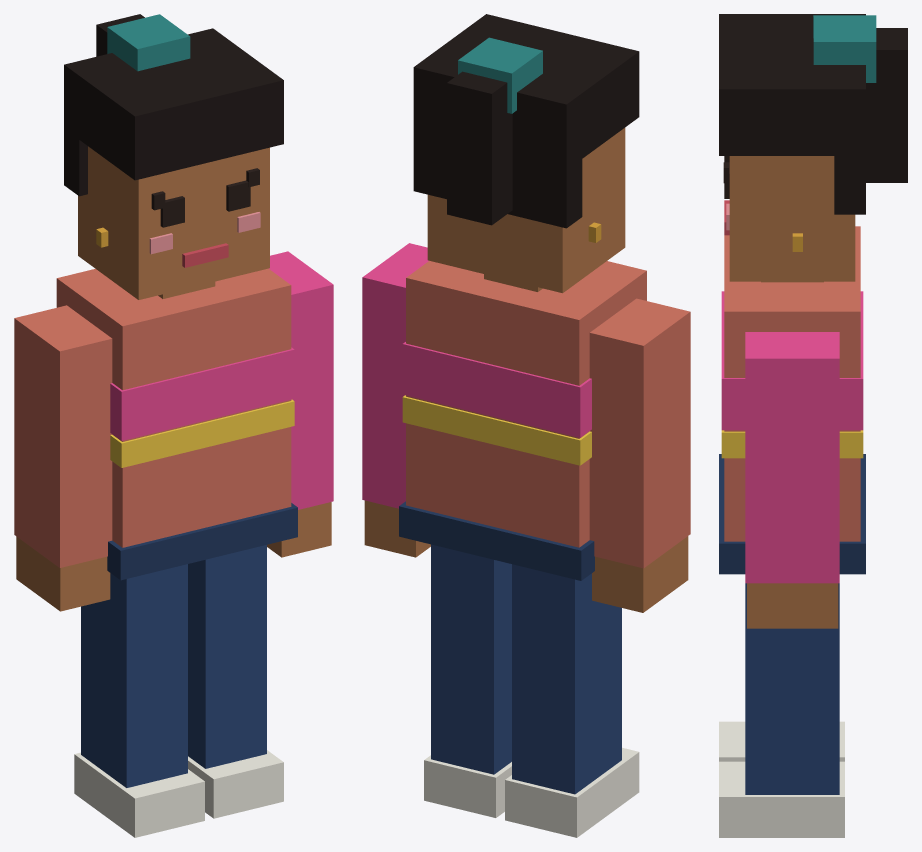
File: high_class_student_0.glb
The picture shows the model from 3 angles, left to right: view 1: azimuth 30°, elevation 25°; view 2: azimuth 150°, elevation 25°; view 3: azimuth 270°, elevation 25°; orthographic projection. The views are drawn at different scales.
Parts seen in each view (by area): view 1: Box9, Box7, Box24, Box5, Box14, Box1, Box3, Box10, Box6, Box12, Box11, Box2 (+7 smaller); view 2: Box9, Box7, Box5, Box24, Box1, Box14, Box3, Box10, Box27, Box25, Box12, Box6 (+5 smaller); view 3: Box3, Box24, Box1, Box14, Box9, Box2, Box27, Box4, Box26, Box10, Box12, Box25 (+2 smaller).
Part boxes in pixels (x1,y1,x2,y2): Box9: [56, 268, 291, 547]; Box7: [14, 305, 112, 567]; Box24: [64, 28, 283, 180]; Box5: [81, 564, 187, 787]; Box14: [78, 146, 269, 299]; Box1: [188, 545, 266, 768]; Box3: [269, 251, 333, 509]; Box10: [110, 347, 294, 440]; Box6: [74, 752, 204, 837]; Box12: [107, 503, 297, 580]; Box11: [110, 399, 294, 467]; Box2: [188, 750, 283, 818]; Box9: [406, 261, 646, 547]; Box7: [589, 298, 690, 568]; Box5: [512, 564, 621, 794]; Box24: [413, 14, 639, 170]; Box1: [431, 544, 511, 774]; Box14: [427, 127, 625, 293]; Box3: [362, 243, 428, 508]; Box10: [402, 342, 591, 437]; Box27: [447, 71, 512, 225]; Box25: [413, 101, 582, 228]; Box12: [399, 501, 594, 580]; Box6: [505, 747, 639, 837]; Box3: [745, 332, 839, 583]; Box24: [719, 14, 865, 155]; Box1: [745, 583, 839, 794]; Box14: [729, 156, 855, 281]; Box9: [724, 226, 860, 541]; Box2: [719, 761, 844, 837]; Box27: [866, 28, 907, 182]; Box4: [747, 583, 838, 628]; Box26: [813, 15, 876, 82]; Box10: [721, 291, 863, 430]; Box12: [719, 454, 865, 574]; Box25: [834, 122, 865, 214].
Bounding box in the file's own units: 0.7088 × 1.84 × 0.4082.
